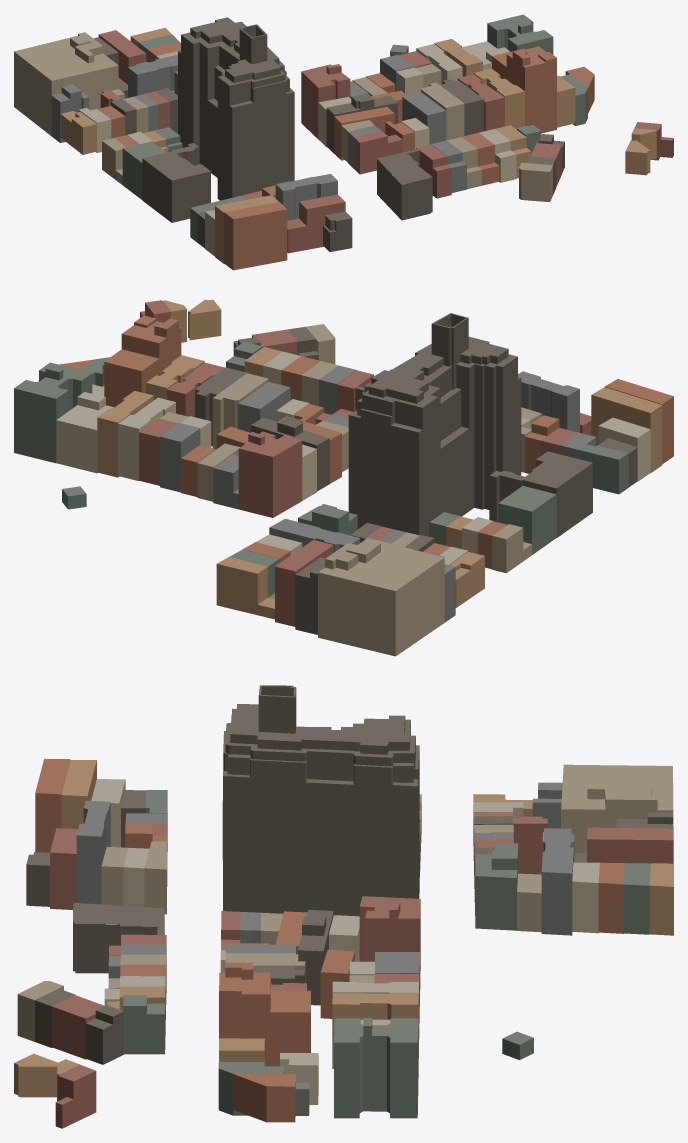
The model's file is tile--4_-5.glb.
The picture shows the model from 3 angles, top to bottom: view 1: azimuth 30°, elevation 25°; view 2: azimuth 150°, elevation 25°; view 3: azimuth 270°, elevation 25°; orthographic projection. The views are drawn at different scales.
Parts seen in each view (by area): view 1: wall, roof; view 2: wall, roof; view 3: wall, roof.
Boxes of the visible parts, left/top/right/bottom form: wall: left=14, top=20, right=673, bottom=270; roof: left=14, top=14, right=673, bottom=232; wall: left=14, top=302, right=673, bottom=656; roof: left=14, top=299, right=673, bottom=608; wall: left=14, top=686, right=673, bottom=1128; roof: left=14, top=685, right=673, bottom=1104.
Bounding box in the file's own units: 193 × 64.75 × 179.
